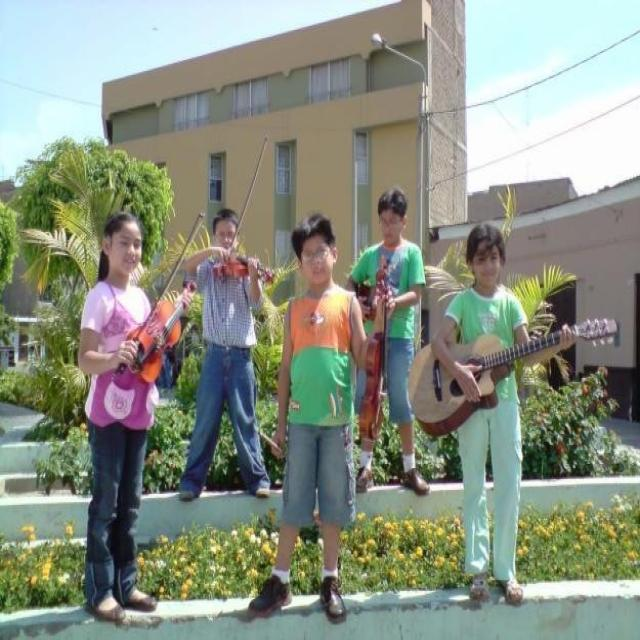guitar: (407, 311, 618, 438)
violin: (125, 276, 199, 388), (357, 273, 391, 437), (212, 252, 278, 286)
